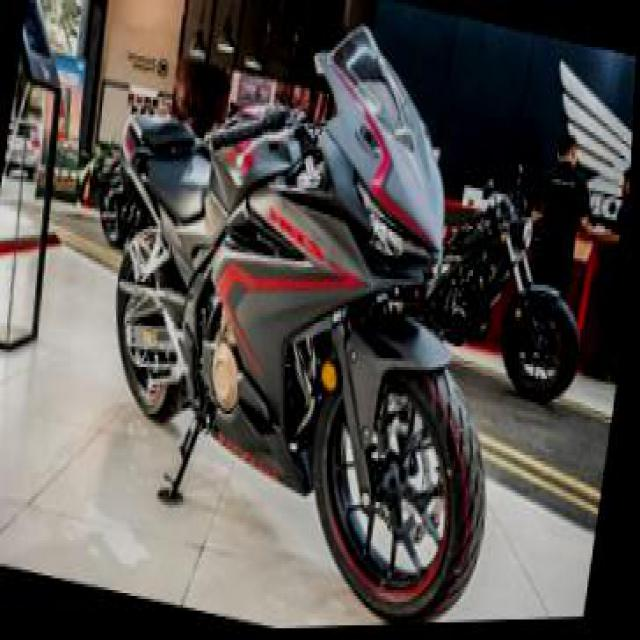CBR500R: (73, 0, 556, 634)
